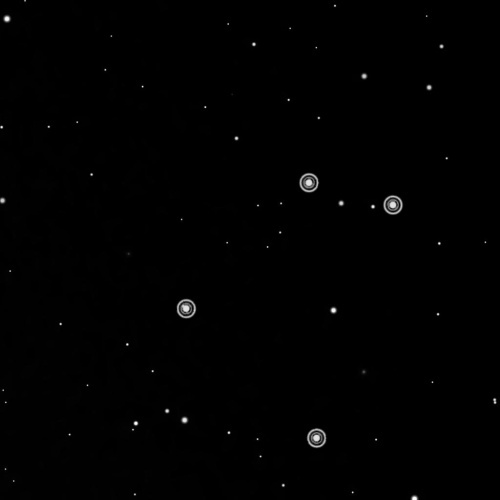coma_berenices: (168, 164, 411, 457)
